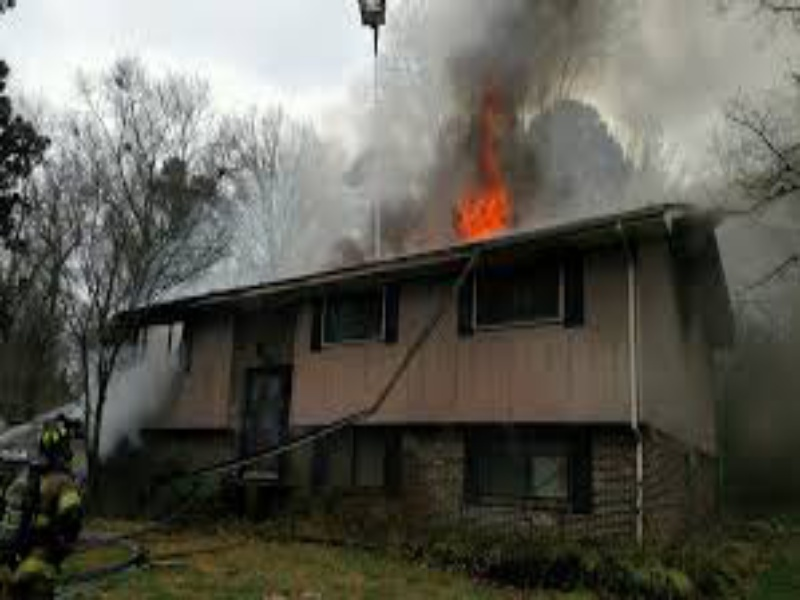fire: (440, 103, 522, 230)
